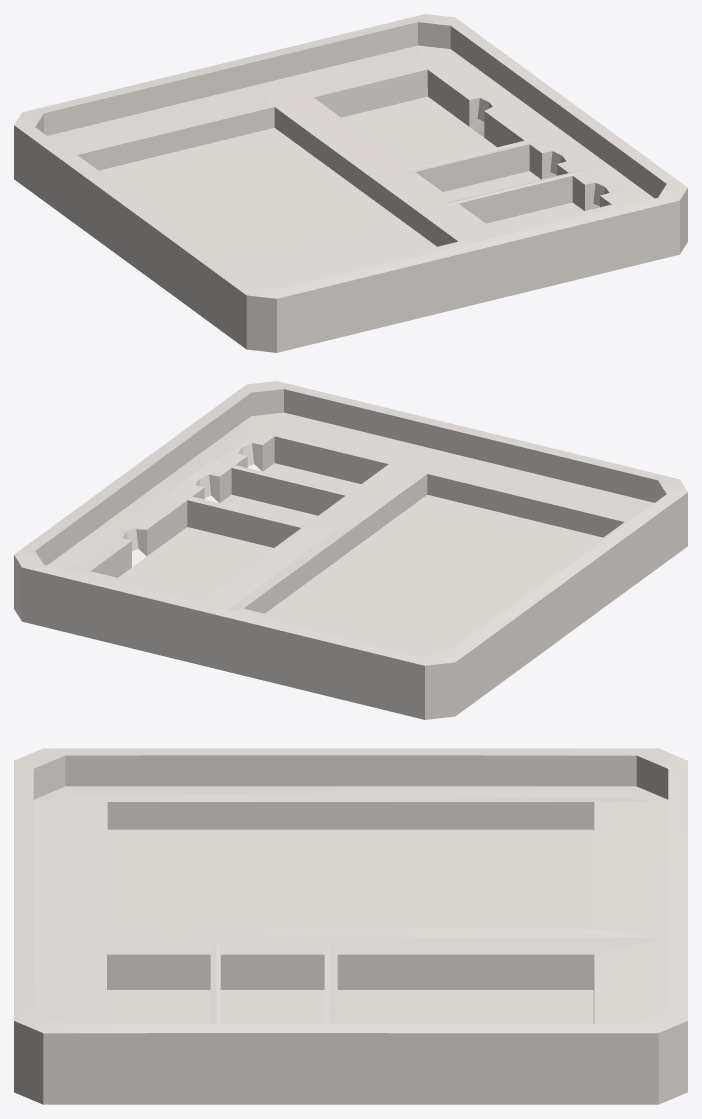
File: Asset_Box_Socle.fbx
3 views of the same model, one above another, from view 1: azimuth 30°, elevation 25°; view 2: azimuth 150°, elevation 25°; view 3: azimuth 270°, elevation 25° (orthographic). The views are drawn at different scales.
Visible parts, largest first — view 1: Boite_Socle; view 2: Boite_Socle; view 3: Boite_Socle.
Boxes of the visible parts, x1=… form: Boite_Socle: x1=14, y1=14, x2=687, y2=352; Boite_Socle: x1=14, y1=381, x2=687, y2=719; Boite_Socle: x1=14, y1=748, x2=687, y2=1104.
Bounding box in the file's own units: 361 × 43.06 × 361.
